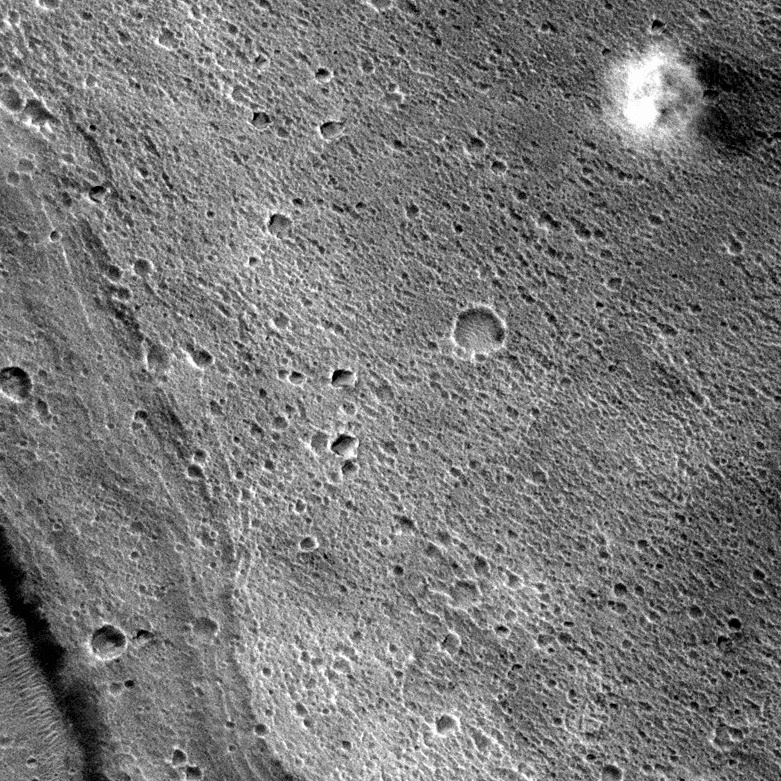dust_devil: (617, 39, 771, 161)
